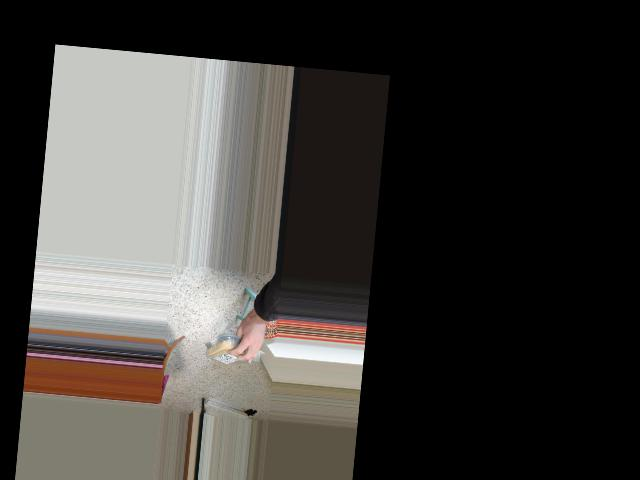cheese: (204, 336, 257, 366)
